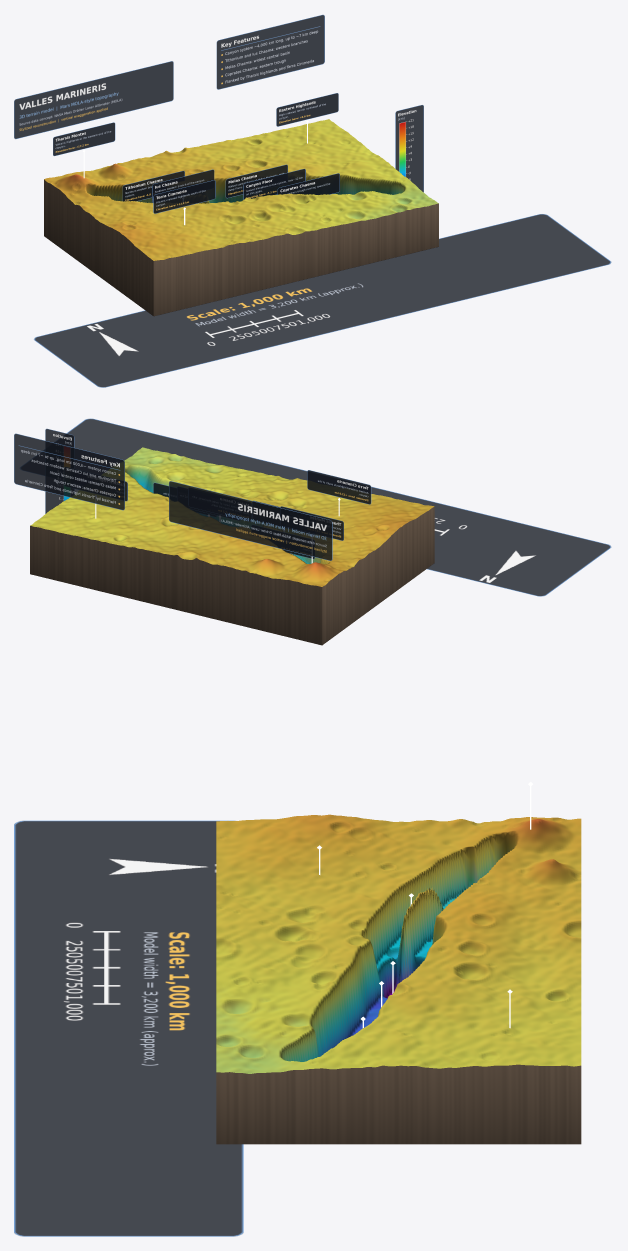
File: 02_Valles_Marineris.glb
3 views of the same model, one above another, from view 1: azimuth 30°, elevation 25°; view 2: azimuth 150°, elevation 25°; view 3: azimuth 270°, elevation 25° (orthographic). The views are drawn at different scales.
Visible parts, largest first — view 1: Info_ScaleAndCompass, Terrain_Surface, Terrain_Walls, Info_Title, Info_KeyFeatures, Info_ElevationLegend, Label_Eastern Highlands, Label_Tharsis Montes, Label_Terra Cimmeria, Label_Canyon Floor, Label_Coprates Chasma, Label_Tithonium Chasma (+2 smaller); view 2: Terrain_Surface, Terrain_Walls, Info_ScaleAndCompass, Info_Title, Info_KeyFeatures, Label_Terra Cimmeria, Label_Melas Chasma, Label_Tharsis Montes, Info_ElevationLegend, Label_Eastern Highlands, Label_Tithonium Chasma, Label_Ius Chasma; view 3: Terrain_Surface, Info_ScaleAndCompass, Terrain_Walls.
Boxes of the visible parts, box(x1,y1,x2,y2) form: Info_ScaleAndCompass: box(34, 214, 611, 387); Terrain_Surface: box(44, 119, 438, 260); Terrain_Walls: box(44, 179, 438, 316); Info_Title: box(14, 61, 173, 138); Info_KeyFeatures: box(216, 14, 324, 89); Info_ElevationLegend: box(395, 105, 423, 192); Label_Eastern Highlands: box(276, 93, 338, 126); Label_Tharsis Montes: box(53, 122, 115, 155); Label_Terra Cimmeria: box(153, 180, 215, 213); Label_Canyon Floor: box(243, 168, 305, 199); Label_Coprates Chasma: box(277, 173, 339, 194); Label_Tithonium Chasma: box(122, 170, 184, 201); Terrain_Surface: box(30, 447, 434, 586); Terrain_Walls: box(30, 506, 434, 645); Info_ScaleAndCompass: box(20, 418, 611, 596); Info_Title: box(169, 481, 332, 560); Info_KeyFeatures: box(14, 433, 124, 510); Label_Terra Cimmeria: box(307, 470, 371, 504); Label_Melas Chasma: box(188, 488, 251, 520); Label_Tharsis Montes: box(280, 506, 343, 540); Info_ElevationLegend: box(45, 428, 74, 513); Label_Eastern Highlands: box(64, 467, 127, 501); Label_Tithonium Chasma: box(252, 525, 314, 559); Label_Ius Chasma: box(252, 500, 305, 532); Terrain_Surface: box(216, 814, 581, 1073); Info_ScaleAndCompass: box(14, 820, 243, 1236); Terrain_Walls: box(216, 1064, 581, 1144).
Bounding box in the file's own units: 18 × 4.81 × 10.97.
Materials: 14 (12 with a texture image).
